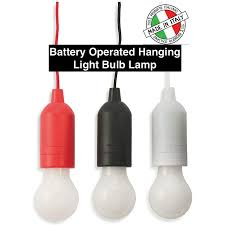bulb: (143, 157, 211, 225), (26, 156, 88, 225), (88, 157, 143, 225)
